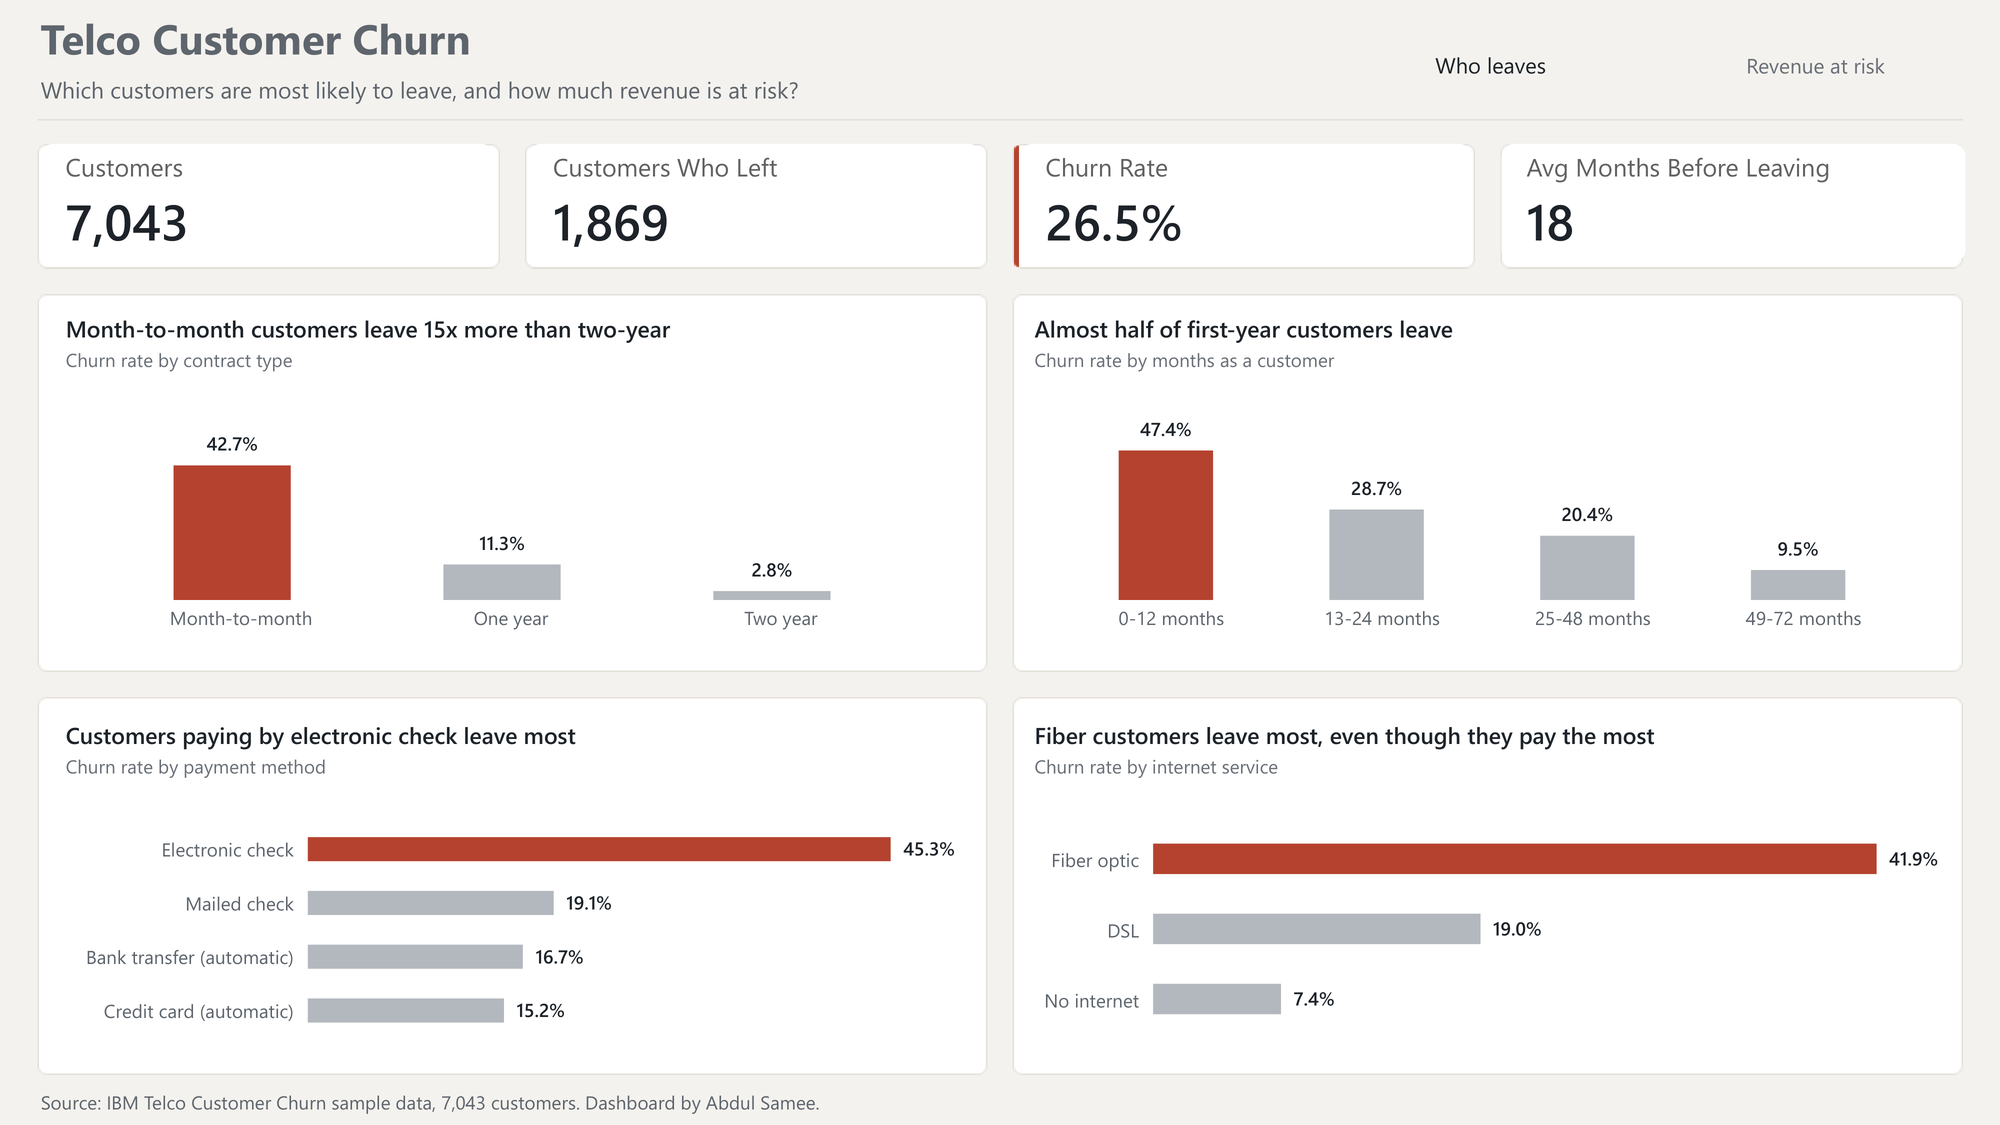

The dashboard page shown, as its layout file describes it:
{"tool":"powerbi","page":{"name":"Who leaves","canvas":[1280,720],"ordinal":0},"visuals":[{"type":"textbox","box":[26,6.3,290,51.2],"z":1000},{"type":"textbox","box":[26,46.7,498.6,20.7],"z":2000},{"type":"textbox","box":[26,696.7,507.2,16.2],"z":3000},{"type":"pageNavigator","box":[857.5,17.5,400,50],"z":4000},{"type":"cardVisual","fields":{"Data":["accounts.Customers Display"]},"box":[26,91.6,290,75.4],"z":5000},{"type":"cardVisual","fields":{"Data":["accounts.Customers Who Left Display"]},"box":[338.5,92.5,290,75.4],"z":6000},{"type":"cardVisual","fields":{"Data":["accounts.Churn Rate"]},"box":[652.7,92.5,289.1,75.4],"z":7000},{"type":"cardVisual","fields":{"Data":["accounts.Avg Months Before Leaving"]},"box":[961.5,92.5,296.3,75.4],"z":8000},{"type":"clusteredColumnChart","title":"Month-to-month customers leave 15x more than two-year","fields":{"Category":["accounts.contract"],"Y":["accounts.Churn Rate"]},"box":[26,185.8,602.4,238.8],"z":9000},{"type":"clusteredColumnChart","title":"Almost half of first-year customers leave","fields":{"Category":["accounts.tenure_group"],"Y":["accounts.Churn Rate"]},"box":[646.4,185.8,611.4,238.8],"z":10000},{"type":"clusteredBarChart","title":"Customers paying by electronic check leave most","fields":{"Category":["accounts.payment_method"],"Y":["accounts.Churn Rate"]},"box":[26,446.2,602.4,239.7],"z":11000},{"type":"clusteredBarChart","title":"Fiber customers leave most, even though they pay the most","fields":{"Category":["services.Internet"],"Y":["accounts.Churn Rate"]},"box":[646,446,611,240],"z":12000}]}

Visuals, with their boxes in screenshot pixels (x1, y1, x2, y2), scaled from the page's 1280x720 canvas onto the 2000x1125 screenshot:
textbox: locate(41, 10, 494, 90)
textbox: locate(41, 73, 820, 105)
textbox: locate(41, 1089, 833, 1114)
pageNavigator: locate(1340, 27, 1965, 105)
cardVisual - accounts.Customers Display: locate(41, 143, 494, 261)
cardVisual - accounts.Customers Who Left Display: locate(529, 145, 982, 262)
cardVisual - accounts.Churn Rate: locate(1020, 145, 1472, 262)
cardVisual - accounts.Avg Months Before Leaving: locate(1502, 145, 1965, 262)
"Month-to-month customers leave 15x more than two-year" clusteredColumnChart: locate(41, 290, 982, 663)
"Almost half of first-year customers leave" clusteredColumnChart: locate(1010, 290, 1965, 663)
"Customers paying by electronic check leave most" clusteredBarChart: locate(41, 697, 982, 1072)
"Fiber customers leave most, even though they pay the most" clusteredBarChart: locate(1009, 697, 1964, 1072)
